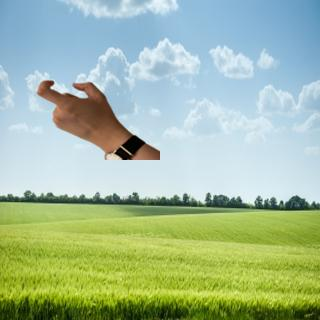HATE: (33, 76, 117, 146)
